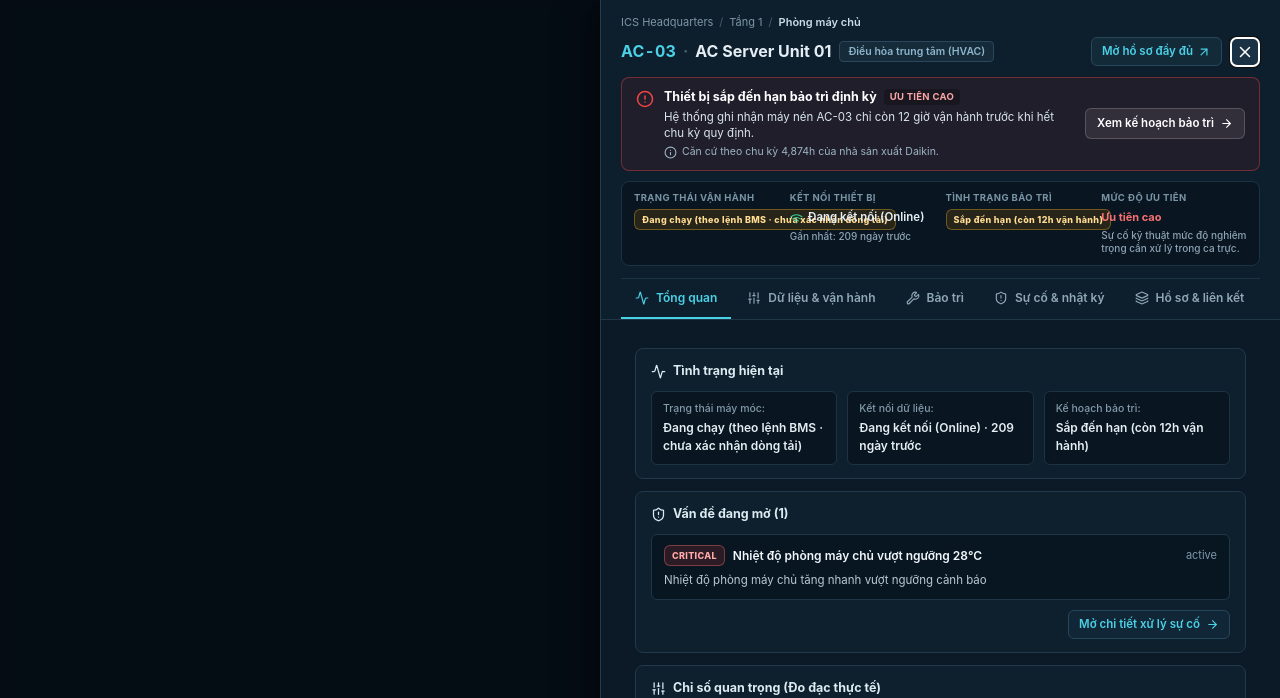
Test: AssetDetailDrawer › navigates through all 5 tabs and displays relevant content
The image size is (1280, 698).
Expected: the heading "Tình trạng hiện tại" is shown, [651,363,783,379]
Expected: the heading "Vấn đề đang mở (1)" is shown, [651,506,788,522]
Switch to Tab 2: Dữ liệu & vận hành
Step 1. Click the tab "Dữ liệu & vận hành" → (811, 299), box [733,279,890,319]
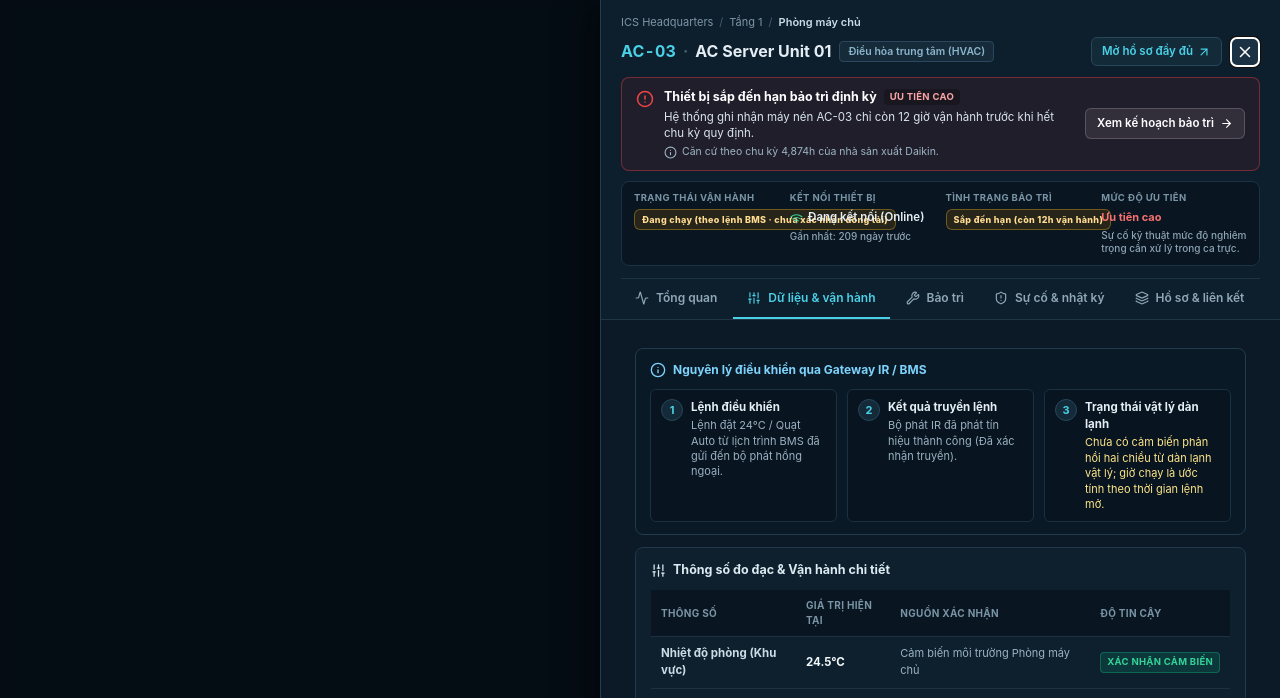
Result: the heading "Thông số đo đạc & Vận hành chi tiết" is shown at [651,562,890,578]
Switch to Tab 3: Bảo trì
Step 2. Click the tab "Bảo trì" → (935, 299), box [892,279,978,319]
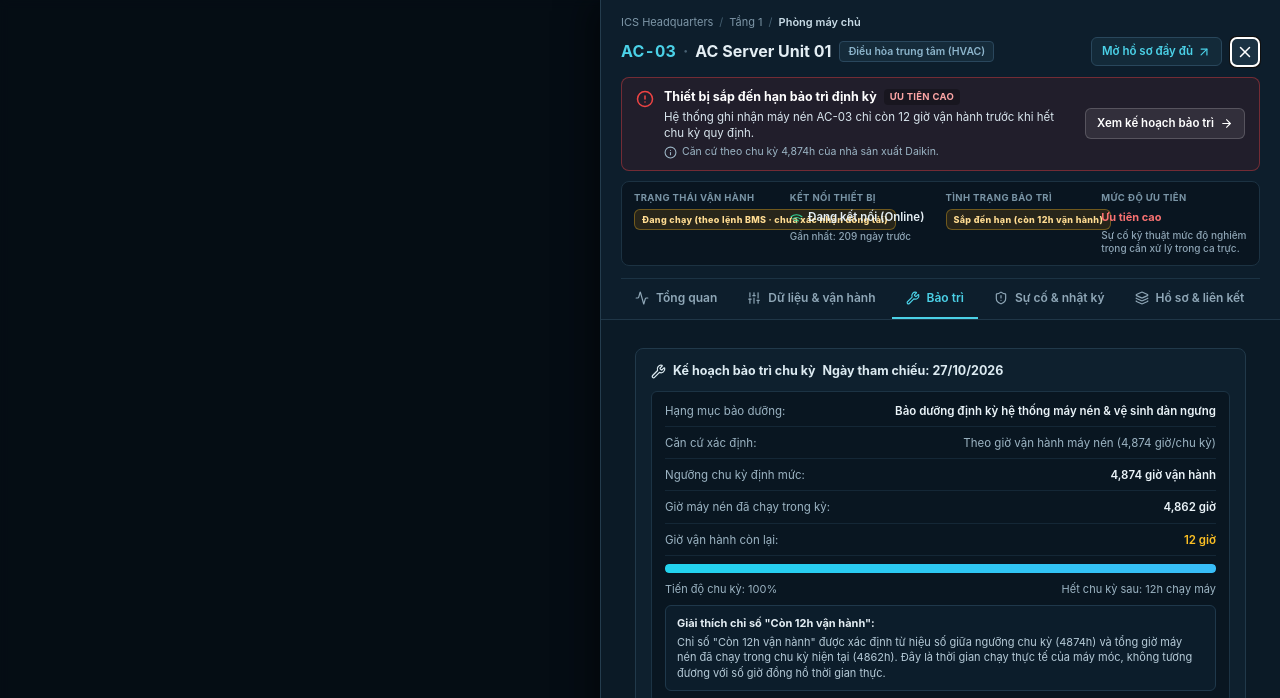
Result: the text "Kế hoạch bảo trì chu kỳ" is shown at [673,362,816,381]
Result: the text "Ngưỡng chu kỳ định mức:" is shown at [665,467,805,484]
Switch to Tab 4: Sự cố & nhật ký
Step 3. Click the tab "Sự cố & nhật ký" → (1049, 299), box [980,279,1119,319]
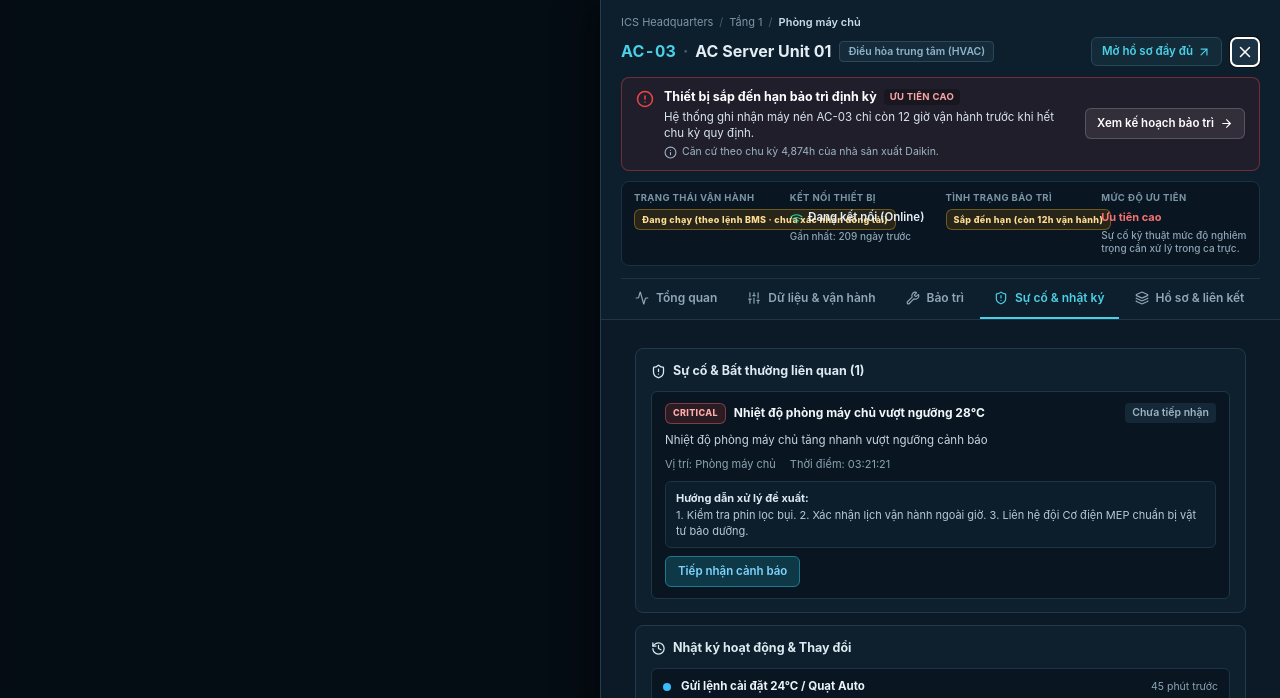
Result: the heading "Sự cố & Bất thường liên quan (1)" is shown at [651,363,864,379]
Result: the text "Nhiệt độ phòng máy chủ vượt ngưỡng 28°C" is shown at [734,405,985,420]
Switch to Tab 5: Hồ sơ & liên kết
Step 4. Click the tab "Hồ sơ & liên kết" → (1190, 299), box [1121,279,1258,319]
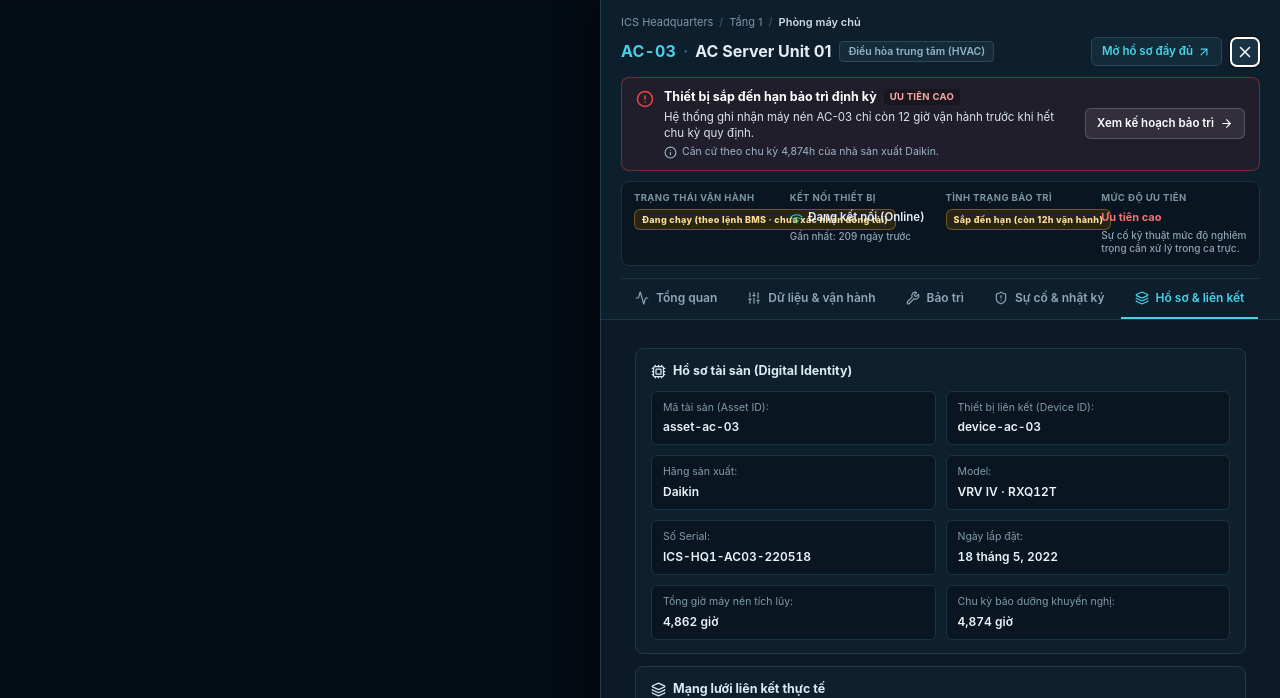
Result: the heading "Hồ sơ tài sản (Digital Identity)" is shown at [651,363,852,379]
Result: the text "Mã tài sản (Asset ID):" is shown at [663,401,769,414]
Result: the text "Thiết bị liên kết (Device ID):" is shown at [958,401,1094,414]
